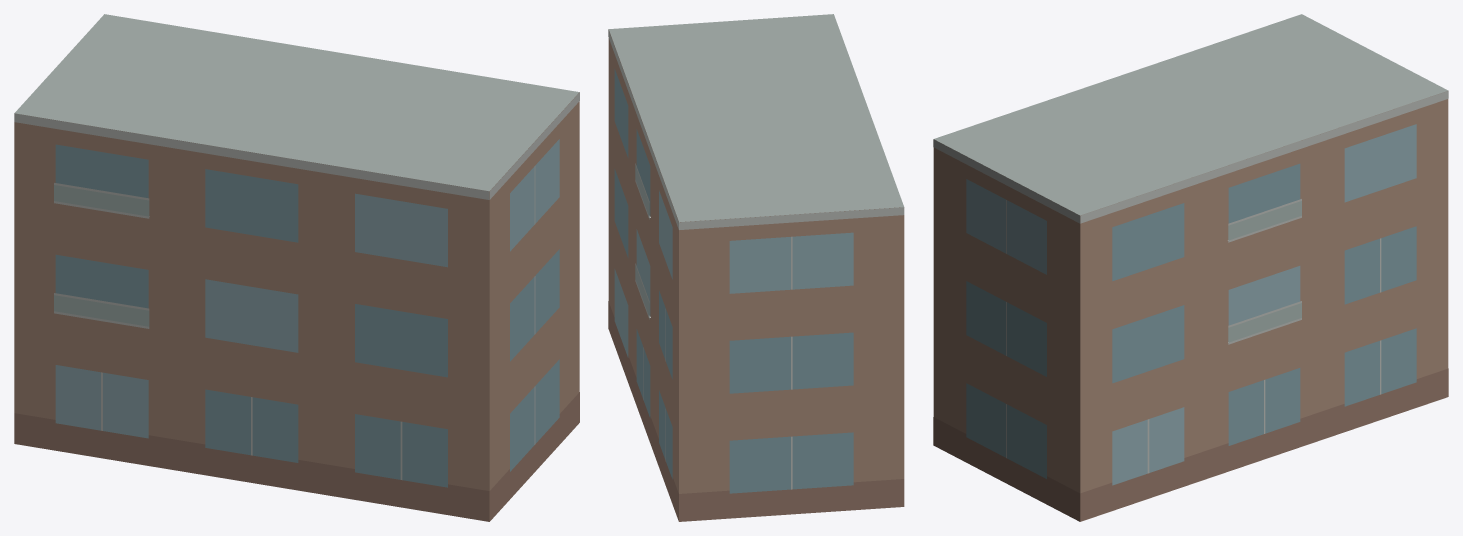
File: survey-upis-32709392.glb
3 views of the same model, side by side, from view 1: azimuth 30°, elevation 25°; view 2: azimuth 150°, elevation 25°; view 3: azimuth 270°, elevation 25° (orthographic). The views are drawn at different scales.
Visible parts, largest first — view 1: survey-upis-32709392.tmp; view 2: survey-upis-32709392.tmp; view 3: survey-upis-32709392.tmp.
Part boxes in pixels (x1,y1,x2,y2): survey-upis-32709392.tmp: [14, 14, 579, 521]; survey-upis-32709392.tmp: [608, 14, 904, 521]; survey-upis-32709392.tmp: [933, 14, 1448, 521].
Size of the model in its own units: 12.92 by 9.15 by 13.95.
